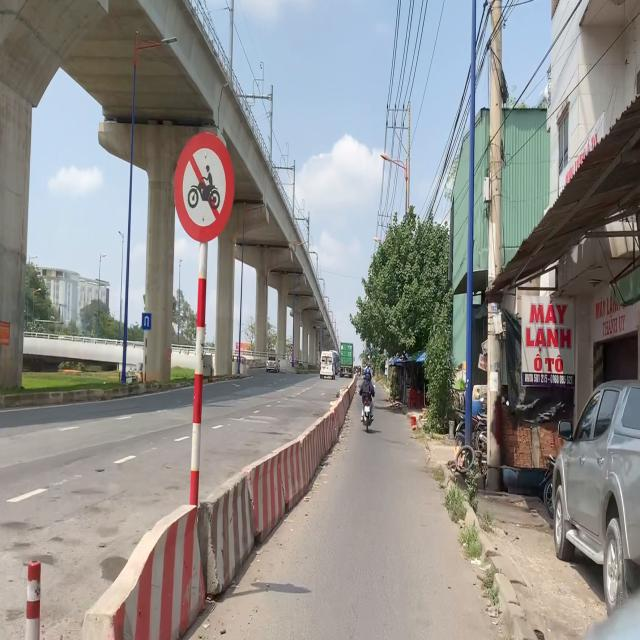Cam con lai: (172, 128, 236, 244)
Chi dan: (142, 312, 152, 331)
